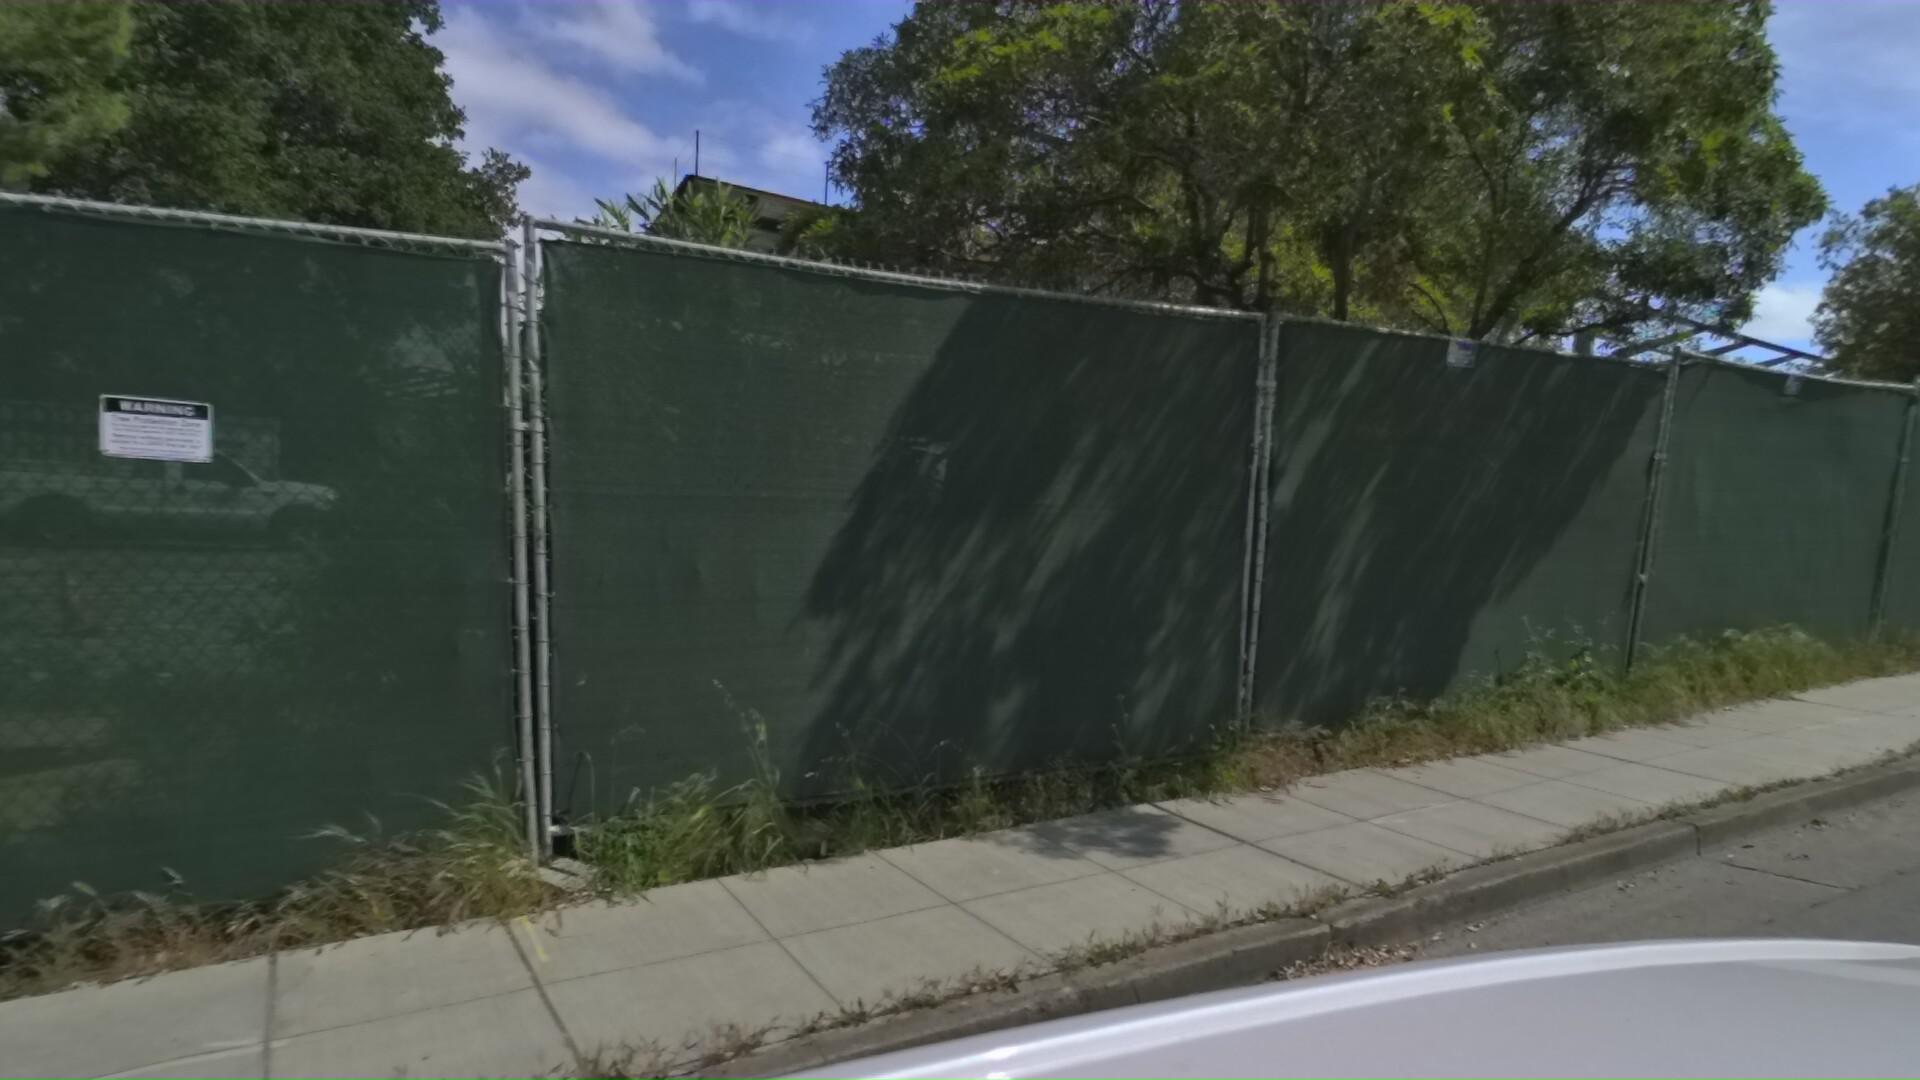car: (0, 415, 384, 558)
other_vehicle: (647, 389, 1017, 607)
